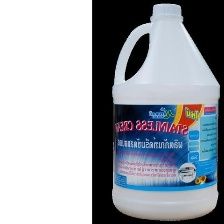cleaning_solution: (109, 2, 222, 224)
